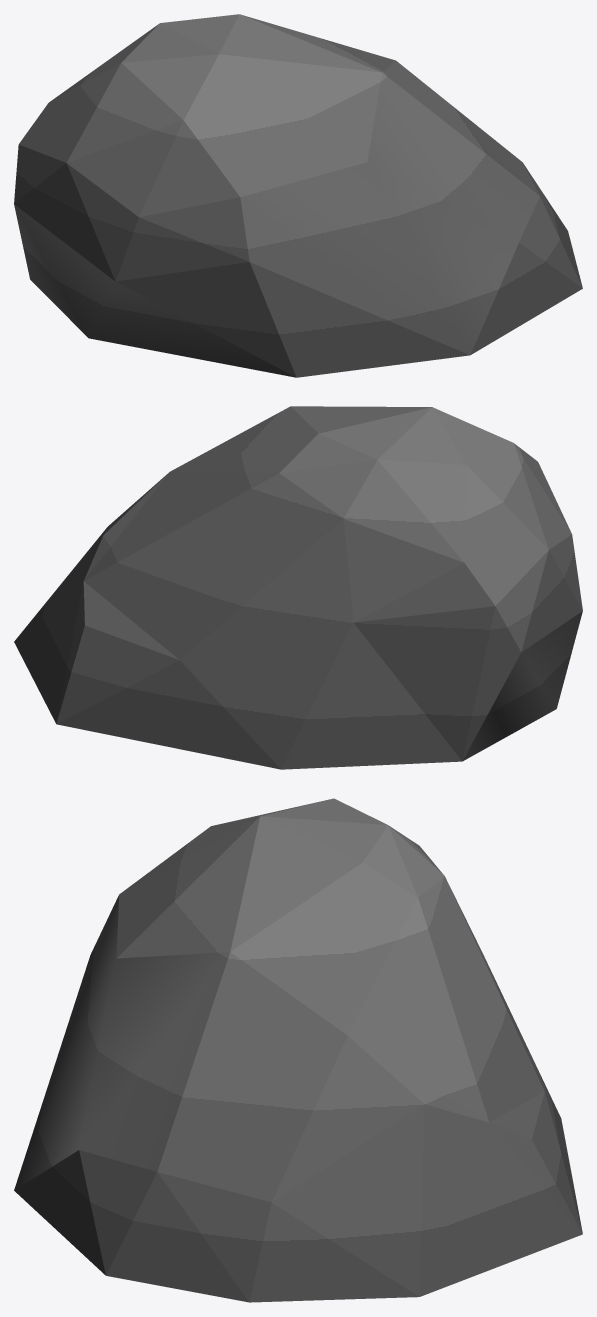
Rendered from Prefab_Rock_E.glb.
The picture shows the model from 3 angles, top to bottom: view 1: azimuth 30°, elevation 25°; view 2: azimuth 150°, elevation 25°; view 3: azimuth 270°, elevation 25°; orthographic projection. The views are drawn at different scales.
Visible parts, largest first — view 1: Rock_D; view 2: Rock_D; view 3: Rock_D.
Boxes of the visible parts, bbox=[...] form: Rock_D: bbox=[14, 14, 582, 377]; Rock_D: bbox=[14, 406, 582, 769]; Rock_D: bbox=[14, 798, 582, 1302].
Bounding box in the file's own units: 0.9584 × 0.4813 × 0.8435.
Materials: 1 (1 with a texture image).
